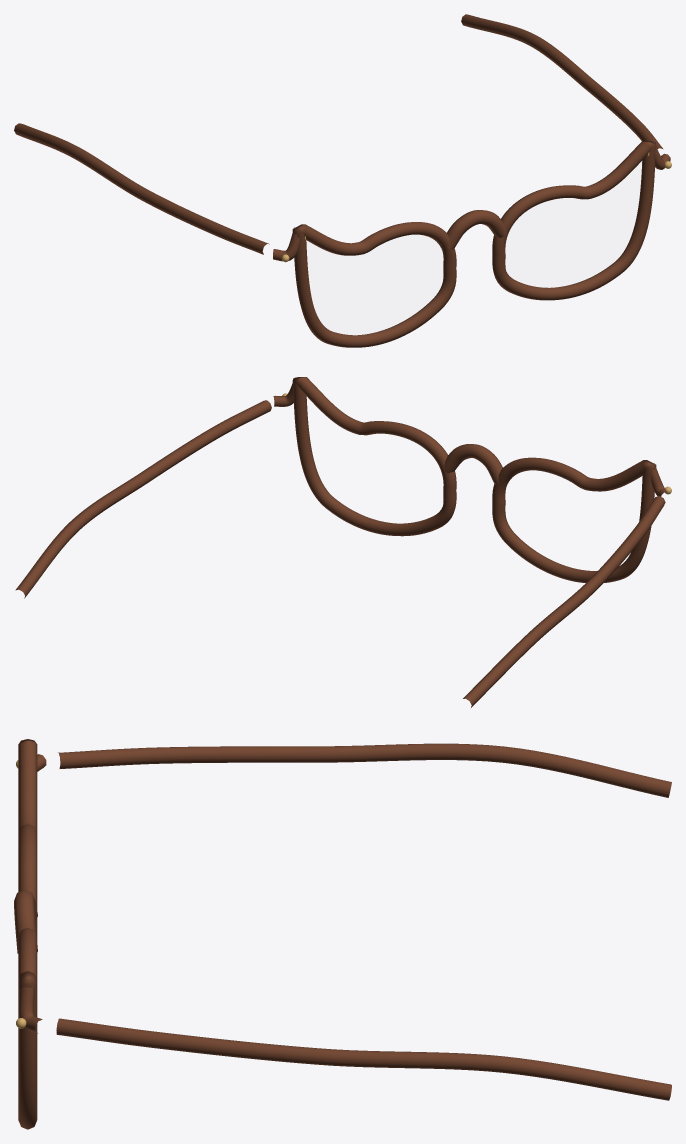
Rendered from cocoa-cat-eye.glb.
3 views of the same model, one above another, from view 1: azimuth 30°, elevation 25°; view 2: azimuth 150°, elevation 25°; view 3: azimuth 270°, elevation 25° (orthographic). The views are drawn at different scales.
Visible parts, largest first — view 1: rim_left, rim_right, temple_right, temple_left, bridge; view 2: rim_left, rim_right, temple_left, temple_right, bridge; view 3: temple_left, temple_right, rim_left, rim_right, bridge, endpiece_left.
Boxes of the visible parts, x1,y1,x2,y2 form: rim_left: (492, 141, 656, 300); rim_right: (292, 222, 456, 347); temple_right: (14, 123, 269, 254); temple_left: (461, 14, 663, 149); bridge: (447, 210, 507, 249); rim_left: (292, 377, 456, 536); rim_right: (492, 457, 656, 583); temple_left: (15, 400, 271, 598); temple_right: (463, 496, 665, 707); bridge: (443, 444, 502, 484); temple_left: (56, 1018, 671, 1100); temple_right: (58, 743, 671, 797); rim_left: (18, 927, 37, 1129); rim_right: (18, 739, 37, 936); bridge: (14, 889, 37, 953); endpiece_left: (18, 979, 42, 1033).
Size of the model in its own units: 0.1718 by 0.0484 by 0.1506.
